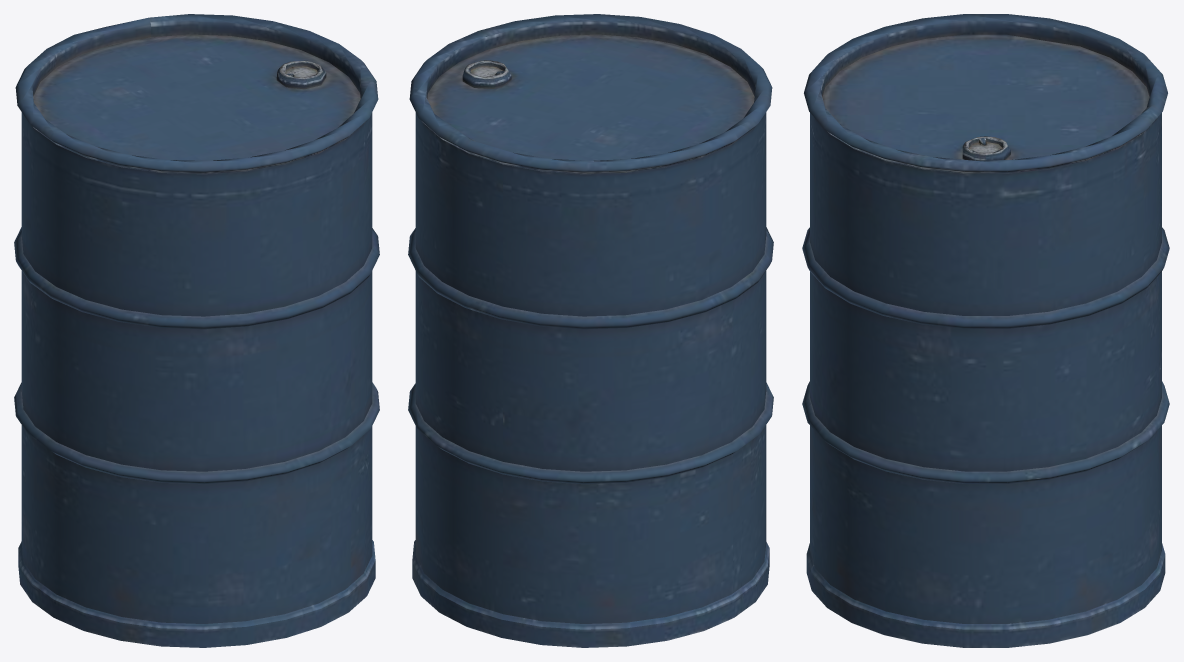
The model's file is fass.glb.
3 renders of one model, left to right at view 1: azimuth 30°, elevation 25°; view 2: azimuth 150°, elevation 25°; view 3: azimuth 270°, elevation 25°, orthographic.
Parts seen in each view (by area): view 1: barrel_03; view 2: barrel_03; view 3: barrel_03.
Boxes of the visible parts, bbox=[...] form: barrel_03: bbox=[14, 14, 379, 647]; barrel_03: bbox=[408, 14, 773, 647]; barrel_03: bbox=[802, 14, 1169, 647].
Bounding box in the file's own units: 0.634 × 0.9305 × 0.6386.
1 material, 1 textured.
